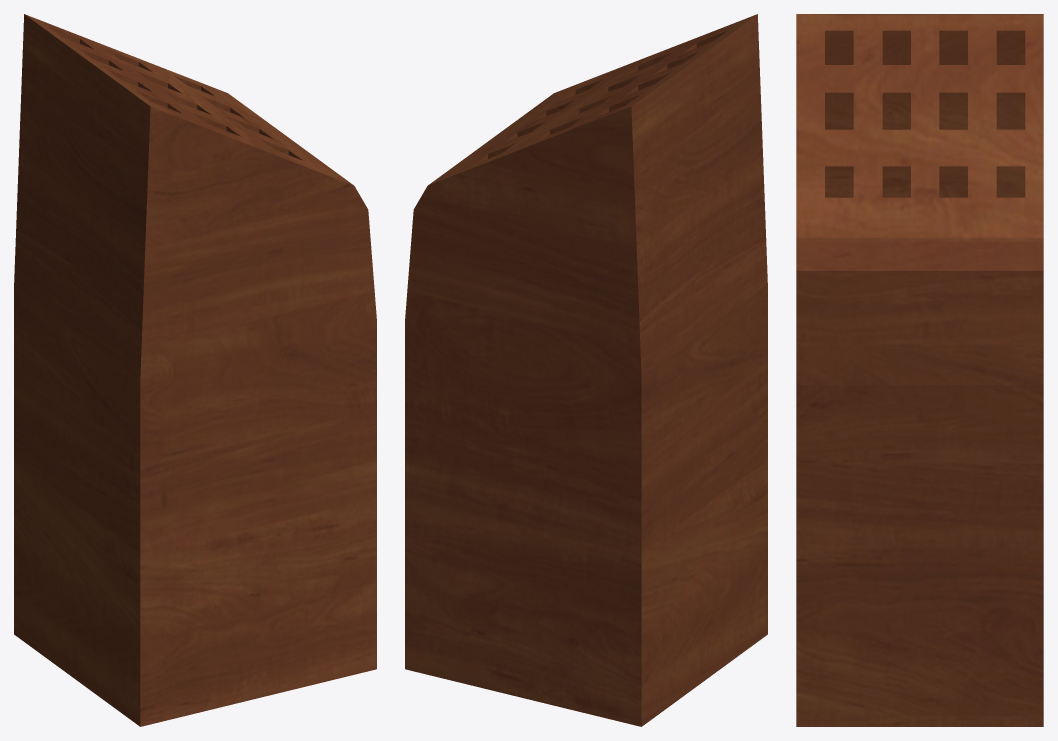
File: Organizer for knife.fbx
The picture shows the model from 3 angles, left to right: view 1: azimuth 30°, elevation 25°; view 2: azimuth 150°, elevation 25°; view 3: azimuth 270°, elevation 25°; orthographic projection. The views are drawn at different scales.
Parts seen in each view (by area): view 1: Cube; view 2: Cube; view 3: Cube.
Part boxes in pixels (x1,y1,x2,y2): Cube: [14, 14, 376, 726]; Cube: [405, 14, 767, 726]; Cube: [796, 14, 1043, 726].
Bounding box in the file's own units: 98.88 × 247 × 91.52.
